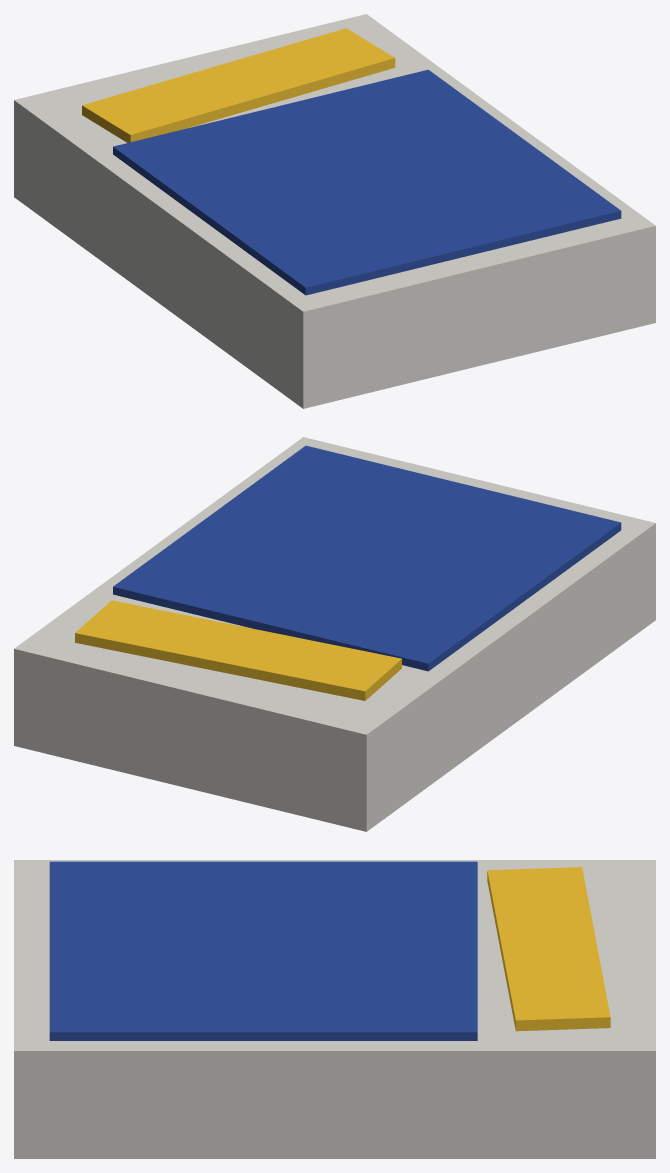
The model's file is cinema_covers.glb.
The picture shows the model from 3 angles, top to bottom: view 1: azimuth 30°, elevation 25°; view 2: azimuth 150°, elevation 25°; view 3: azimuth 270°, elevation 25°; orthographic projection. The views are drawn at different scales.
Visible parts, largest first — view 1: stack_white, print_cover_print, title_cover_title; view 2: stack_white, print_cover_print, title_cover_title; view 3: stack_white, print_cover_print, title_cover_title.
Part boxes in pixels (<box>): stack_white: <box>14,14,655,408</box>; print_cover_print: <box>113,69,621,295</box>; title_cover_title: <box>82,28,395,142</box>; stack_white: <box>14,437,655,831</box>; print_cover_print: <box>113,445,621,671</box>; title_cover_title: <box>75,600,401,700</box>; stack_white: <box>14,860,655,1158</box>; print_cover_print: <box>49,861,477,1040</box>; title_cover_title: <box>487,867,610,1031</box>.
Bounding box in the file's own units: 0.19 × 0.0555 × 0.27.
